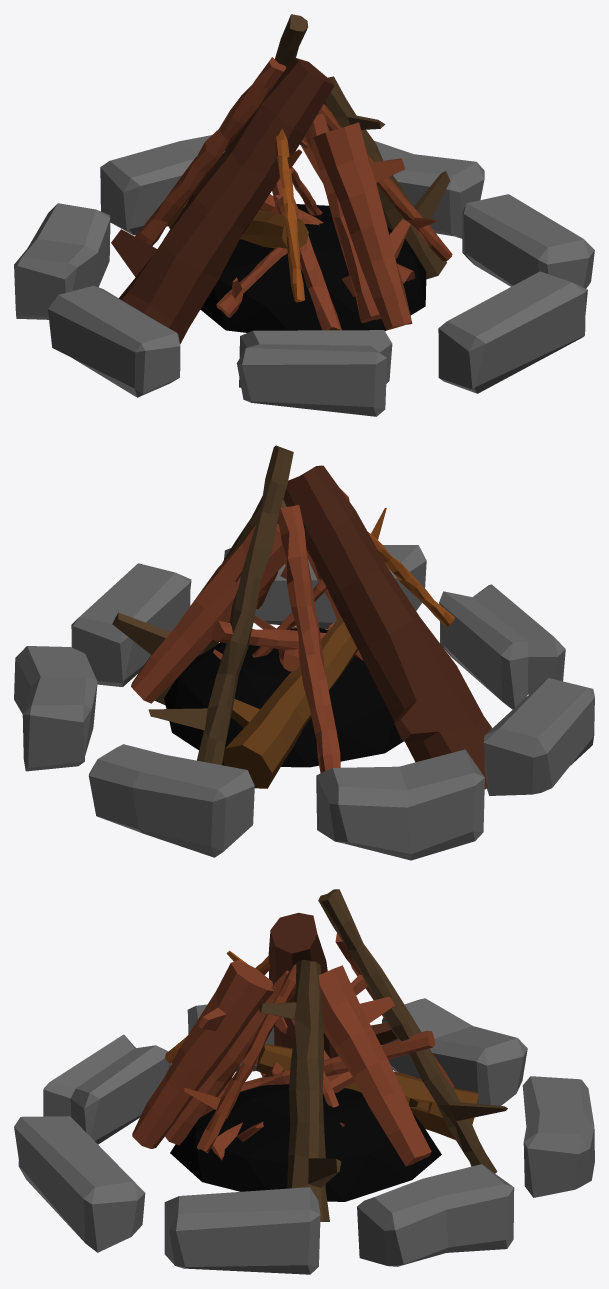
Rendered from bonfirecamp.fbx.
3 renders of one model, top to bottom at view 1: azimuth 30°, elevation 25°; view 2: azimuth 150°, elevation 25°; view 3: azimuth 270°, elevation 25°, orthographic. The views are drawn at different scales.
Visible parts, largest first — view 1: Cylinder; view 2: Cylinder; view 3: Cylinder.
Part boxes in pixels (<box>): Cylinder: <box>14,14,594,416</box>; Cylinder: <box>14,445,594,860</box>; Cylinder: <box>14,889,594,1274</box>.
Size of the model in its own units: 1271 by 800 by 1347.
